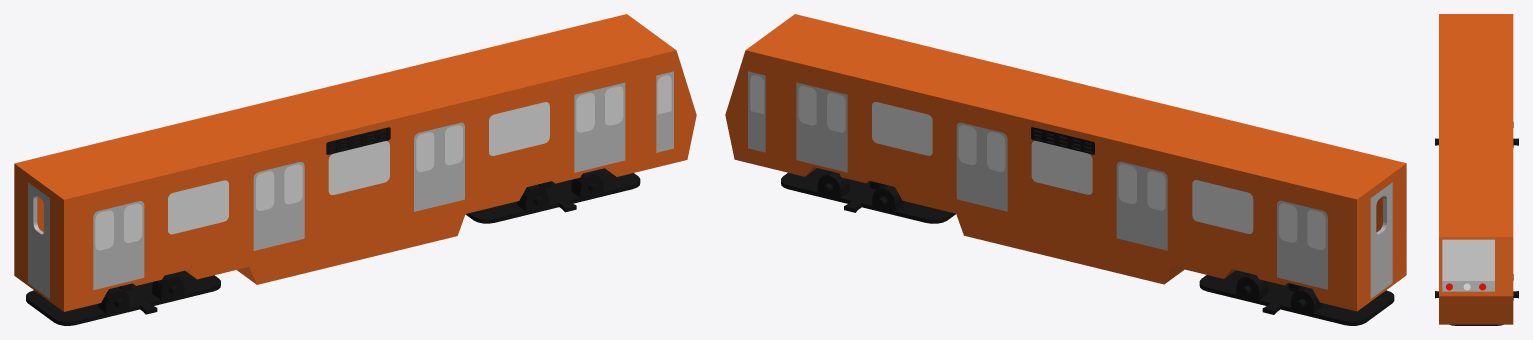
3 views of the same model, side by side, from view 1: azimuth 30°, elevation 25°; view 2: azimuth 150°, elevation 25°; view 3: azimuth 270°, elevation 25° (orthographic). The views are drawn at different scales.
Parts seen in each view (by area): view 1: node0.001; view 2: node0.001; view 3: node0.001.
Boxes of the visible parts, x1=… form: node0.001: x1=14, y1=14, x2=696, y2=325; node0.001: x1=725, y1=14, x2=1406, y2=325; node0.001: x1=1435, y1=14, x2=1518, y2=325.
Bounding box in the file's own units: 16.53 × 2.54 × 3.3.
